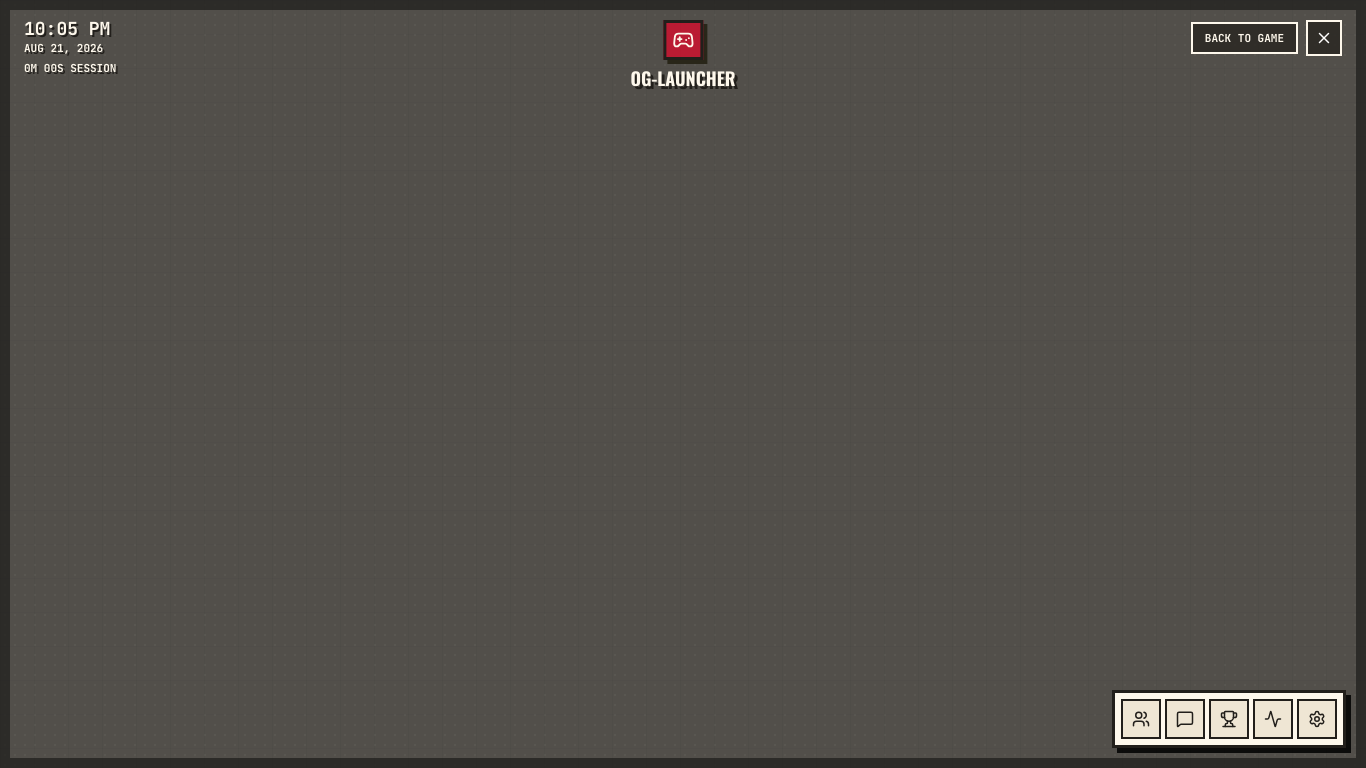
Scenario: routed page smoke coverage › keeps the overlay friend invite verify route local-only
Click the button named "Friends": (1141, 719) left=1121, top=699, right=1161, bottom=739
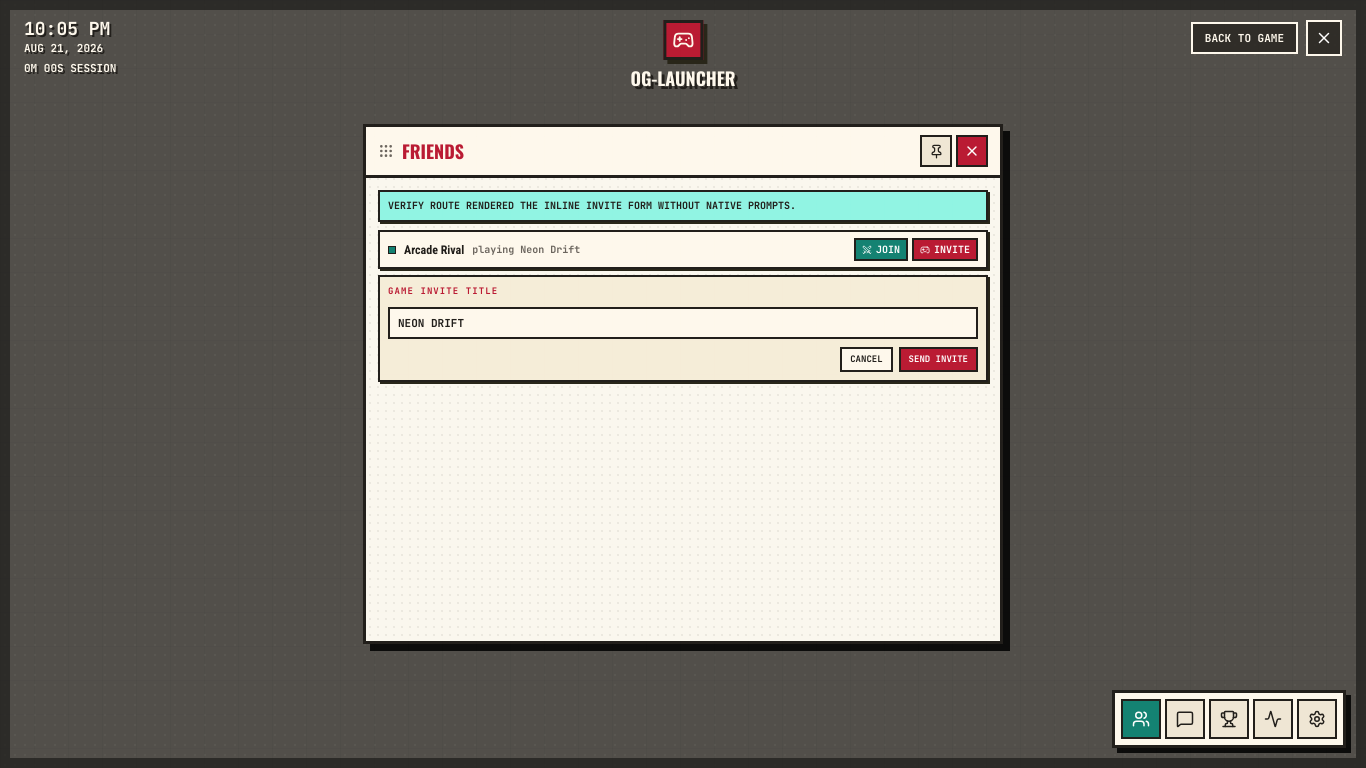
Expected: the text "Arcade Rival" is shown, left=404, top=240, right=464, bottom=258
Expected: the form named "overlay game invite" is shown, left=378, top=275, right=988, bottom=382
Expected: the field labelled "Game Invite Title" holds "Neon Drift", left=388, top=306, right=978, bottom=338
Click the button "Send Invite": (938, 359) left=899, top=346, right=978, bottom=372
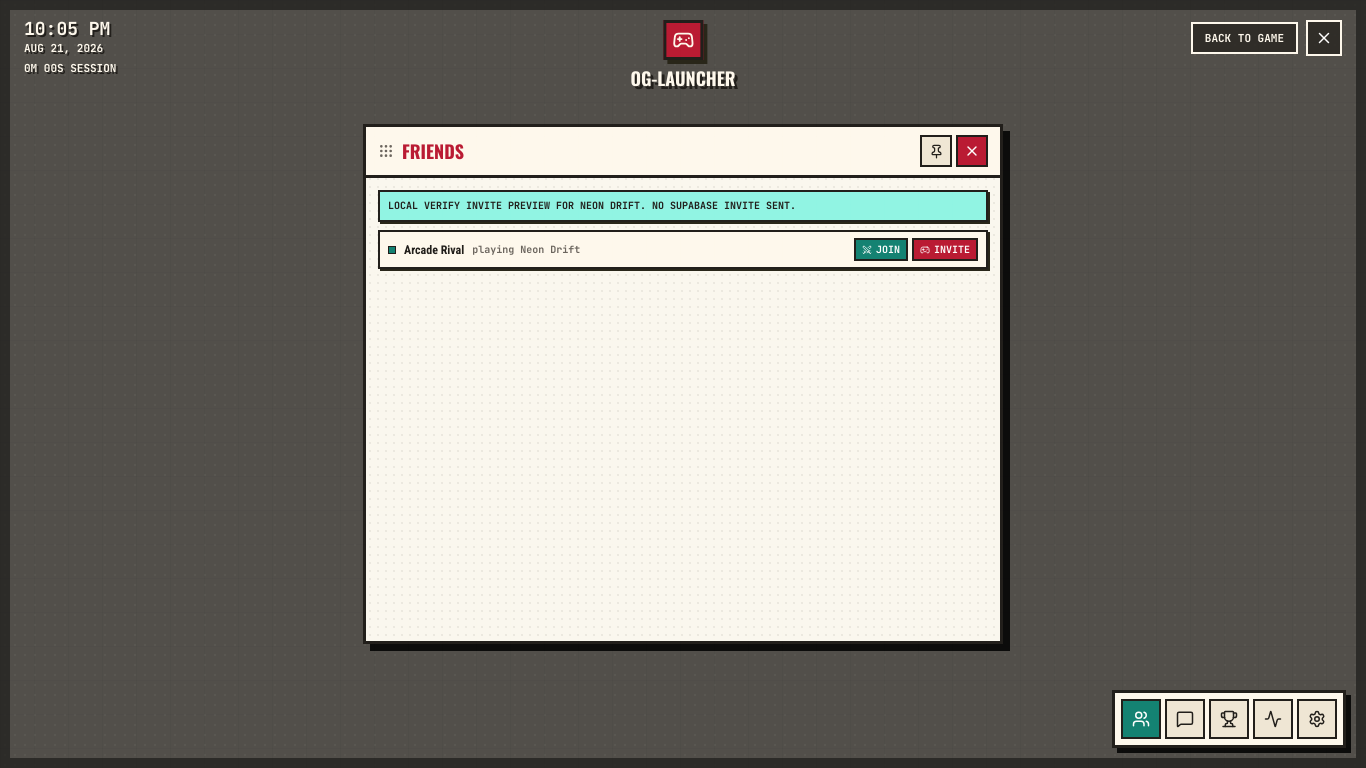
Expected: the message reads "Local verify invite preview for Neon Drift. No Supabase invite sent.", left=388, top=199, right=796, bottom=212
